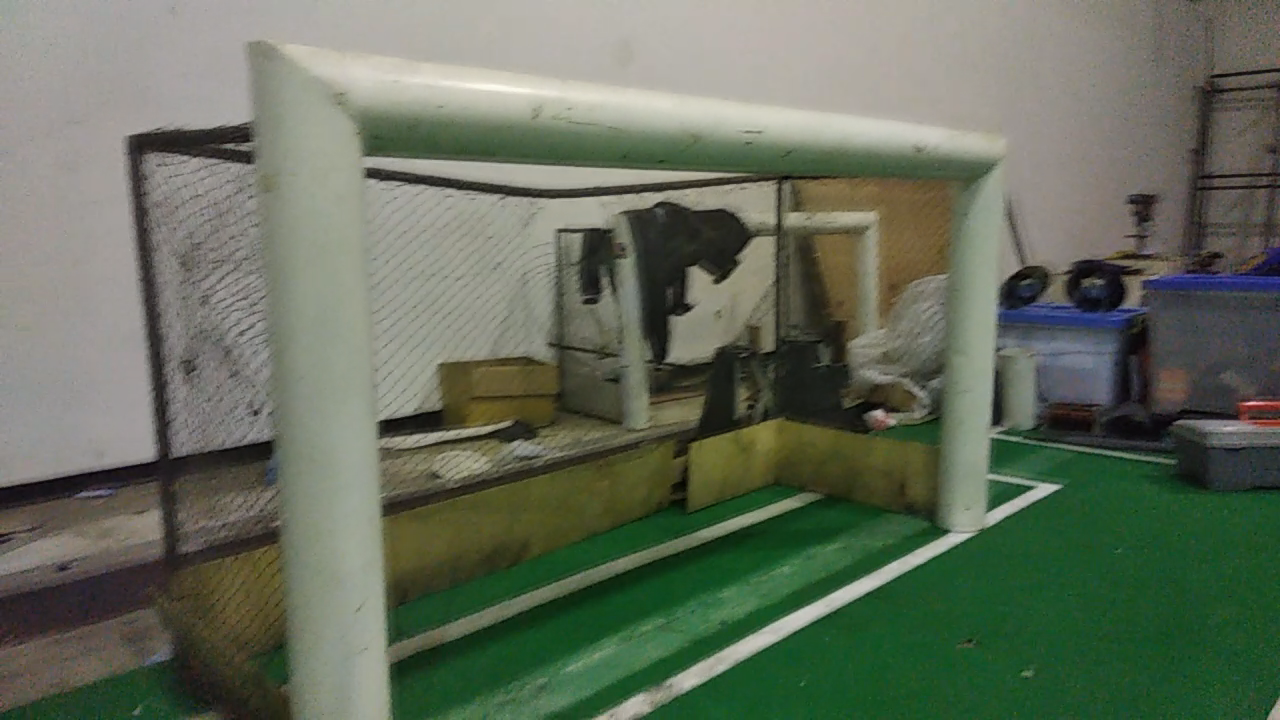gawang: (229, 24, 1019, 713)
